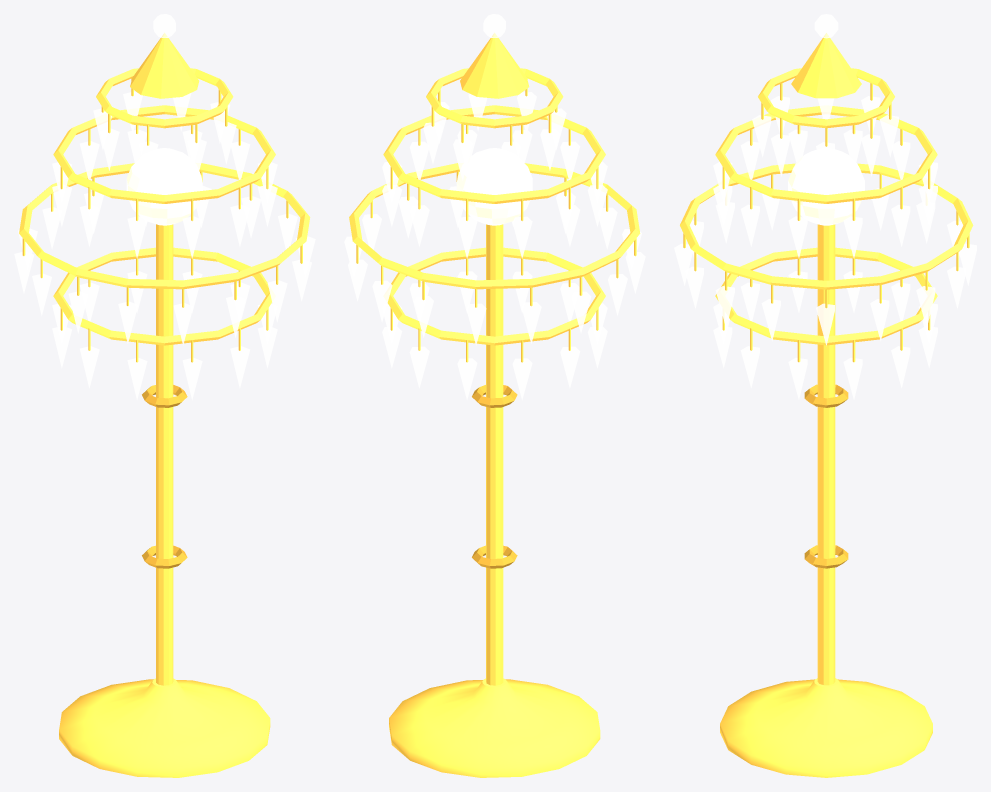
Rendered from lux_crystal_lamp.glb.
3 views of the same model, side by side, from view 1: azimuth 30°, elevation 25°; view 2: azimuth 150°, elevation 25°; view 3: azimuth 270°, elevation 25° (orthographic).
Visible parts, largest first — view 1: lux_crystal_lamp; view 2: lux_crystal_lamp; view 3: lux_crystal_lamp.
Boxes of the visible parts, left/top/right/bottom form: lux_crystal_lamp: left=14, top=14, right=315, bottom=777; lux_crystal_lamp: left=344, top=14, right=645, bottom=777; lux_crystal_lamp: left=674, top=14, right=976, bottom=777.
Size of the model in its own units: 0.8571 by 2.24 by 0.8543.
